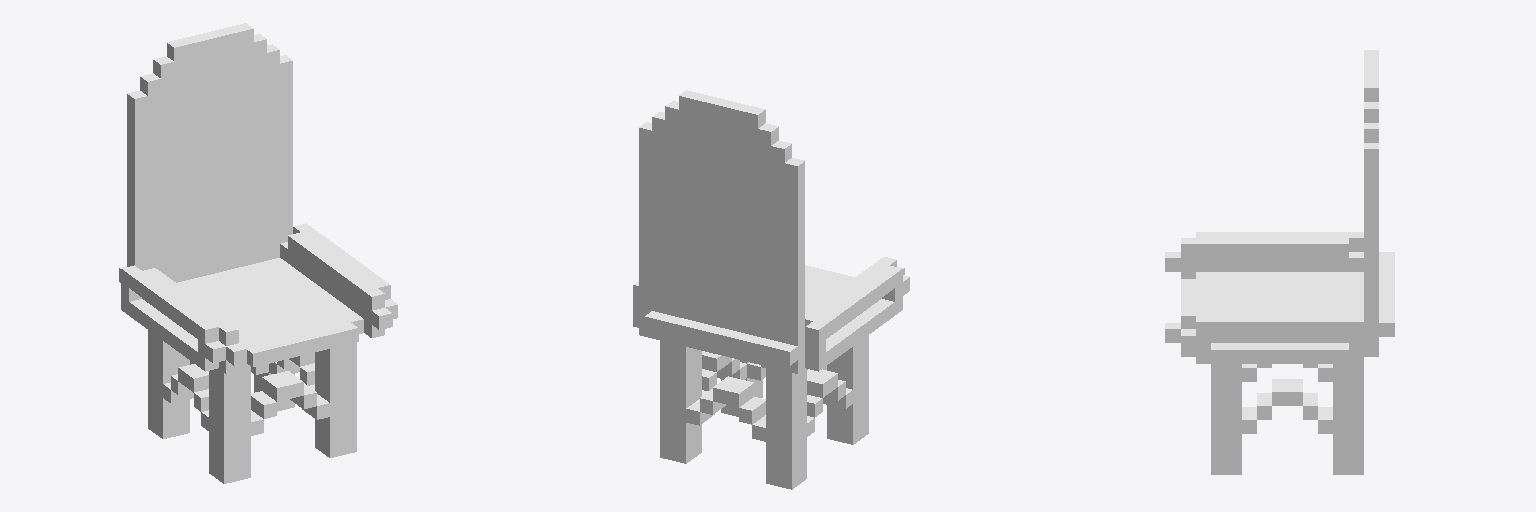
File: prop_chair_dark_green.obj
The picture shows the model from 3 angles: view 1: azimuth 30°, elevation 25°; view 2: azimuth 150°, elevation 25°; view 3: azimuth 270°, elevation 25°; orthographic projection.
Parts seen in each view (by area): view 1: object 1; view 2: object 1; view 3: object 1.
Part boxes in pixels (left/top/right/bottom): object 1: left=119, top=23, right=397, bottom=483; object 1: left=633, top=90, right=909, bottom=489; object 1: left=1165, top=50, right=1394, bottom=474.
Size of the model in its own units: 1.4 by 2.7 by 1.5.